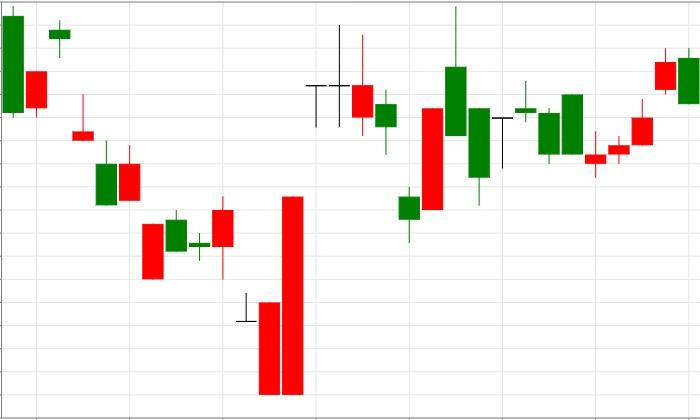bearish_engulfing_fall: (585, 48, 699, 179)
